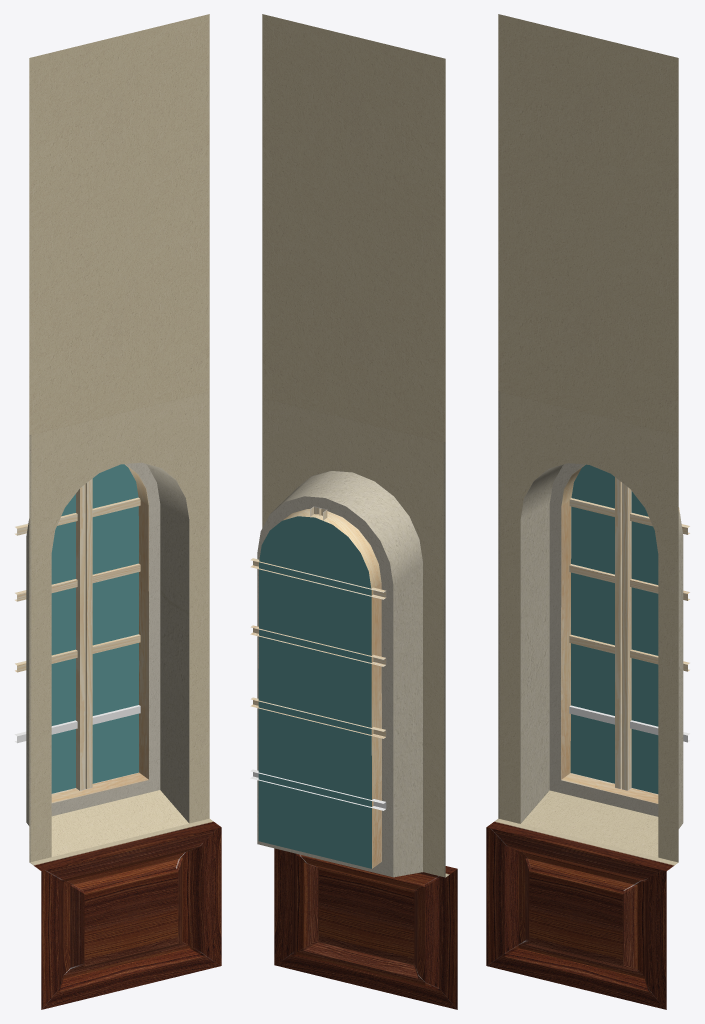
File: lib_set_01_window_02.fbx
3 renders of one model, left to right at view 1: azimuth 30°, elevation 25°; view 2: azimuth 150°, elevation 25°; view 3: azimuth 330°, elevation 25°, orthographic.
Parts seen in each view (by area): view 1: lib_set_01_window_3, lib_set_01_glass_01; view 2: lib_set_01_window_3, lib_set_01_glass_01; view 3: lib_set_01_window_3, lib_set_01_glass_01.
Boxes of the visible parts, <box> form: lib_set_01_window_3: <box>14,14,221,1009</box>; lib_set_01_glass_01: <box>51,464,138,793</box>; lib_set_01_window_3: <box>250,14,457,1009</box>; lib_set_01_glass_01: <box>258,516,371,868</box>; lib_set_01_window_3: <box>486,14,690,1009</box>; lib_set_01_glass_01: <box>570,464,658,793</box>.
Bounding box in the file's own units: 2 × 10 × 0.9634.
2 materials, 1 textured.
